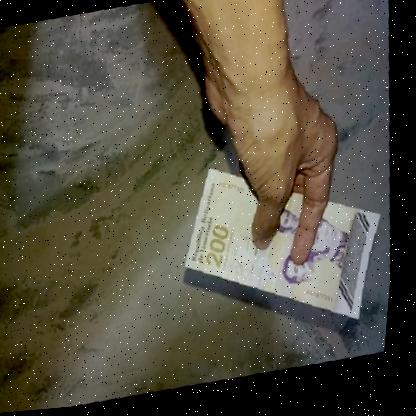two_hundred-front-vef: (168, 134, 404, 365)
